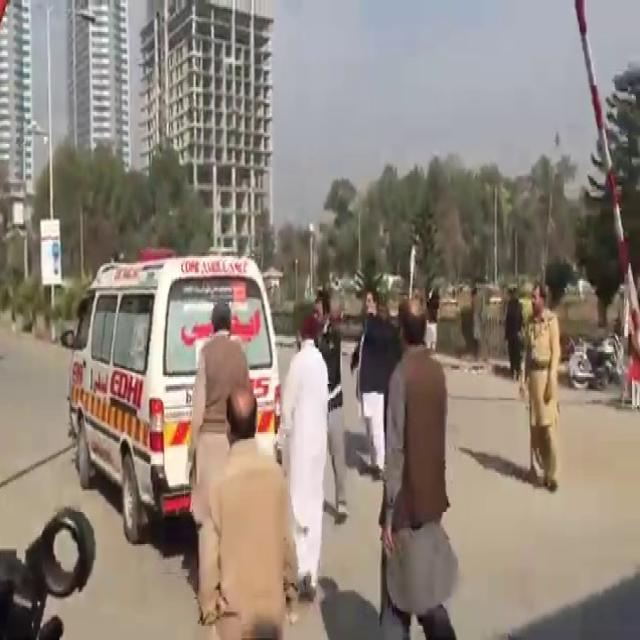ambulance: (52, 224, 300, 506)
